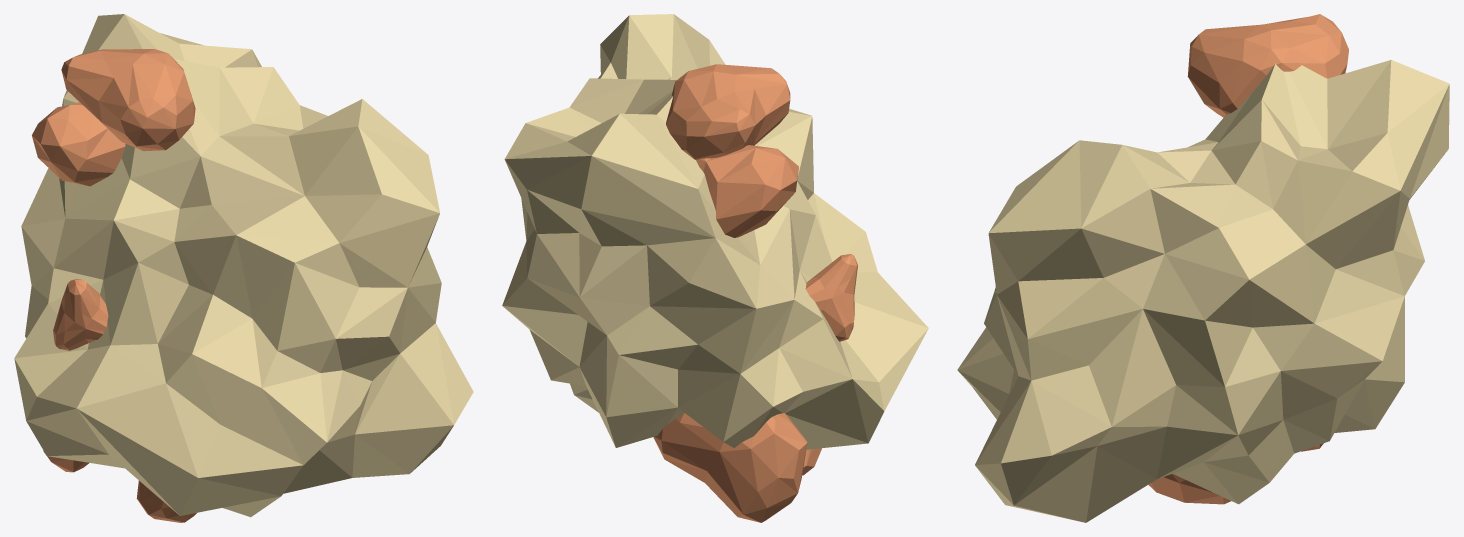
File: StoneOre (48).fbx
The picture shows the model from 3 angles, left to right: view 1: azimuth 30°, elevation 25°; view 2: azimuth 150°, elevation 25°; view 3: azimuth 270°, elevation 25°; orthographic projection. The views are drawn at different scales.
Parts seen in each view (by area): view 1: Asteroid335; view 2: Asteroid335; view 3: Asteroid335.
Boxes of the visible parts, x1=… form: Asteroid335: x1=14, y1=14, x2=473, y2=522; Asteroid335: x1=502, y1=14, x2=928, y2=522; Asteroid335: x1=957, y1=14, x2=1449, y2=522.
Bounding box in the file's own units: 356 × 406 × 395.
